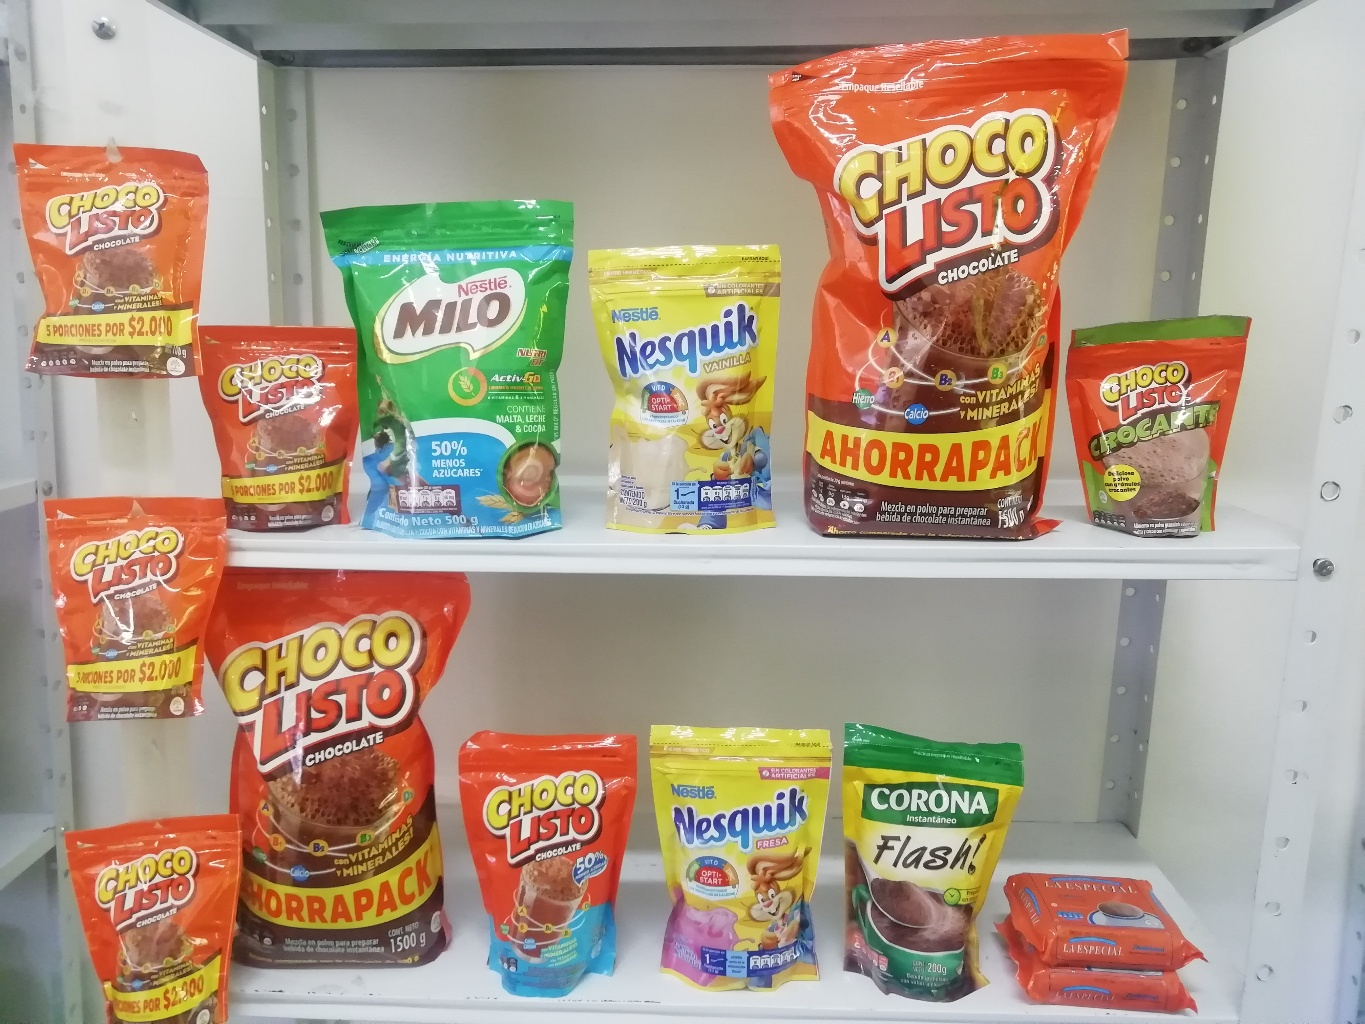COL0170102DYP10000: (1069, 316, 1250, 540)
COL0170103DYP1,500: (768, 38, 1126, 541)
COL0170103DYP10000: (8, 141, 215, 380)
COL0170104DYP20000: (453, 724, 646, 1002)
COL0170205DYP50000: (315, 205, 579, 539)
COL0170305DYP20000: (645, 720, 834, 991)
COL0170306DYP20000: (588, 240, 780, 536)
